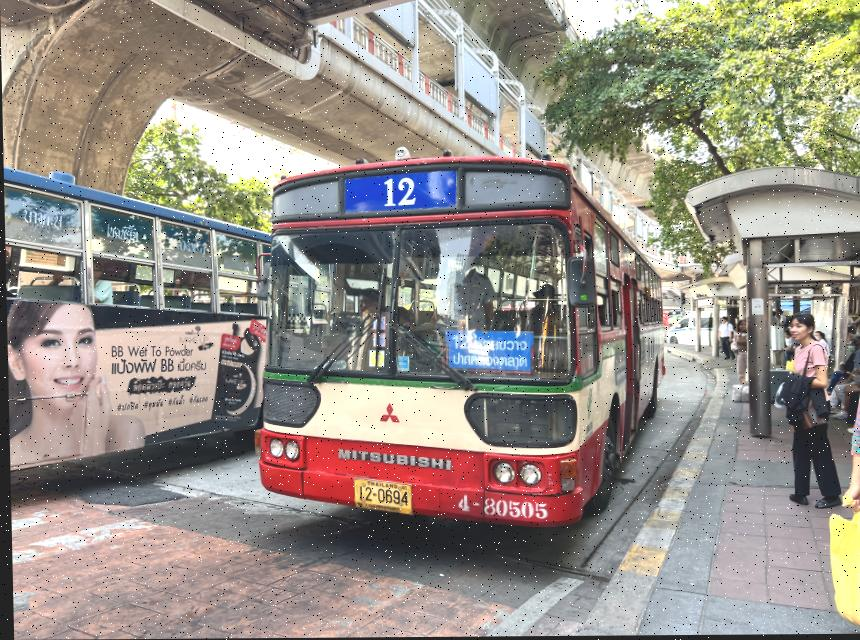BMTA-bus: (253, 157, 661, 534)
Bus Line Number: (330, 171, 463, 215)
Bus Side Number: (449, 492, 551, 525)
Destination Sign: (441, 326, 540, 382)
